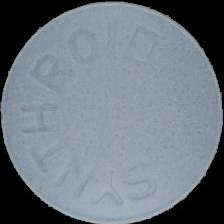69189-7069: (0, 0, 224, 224)
